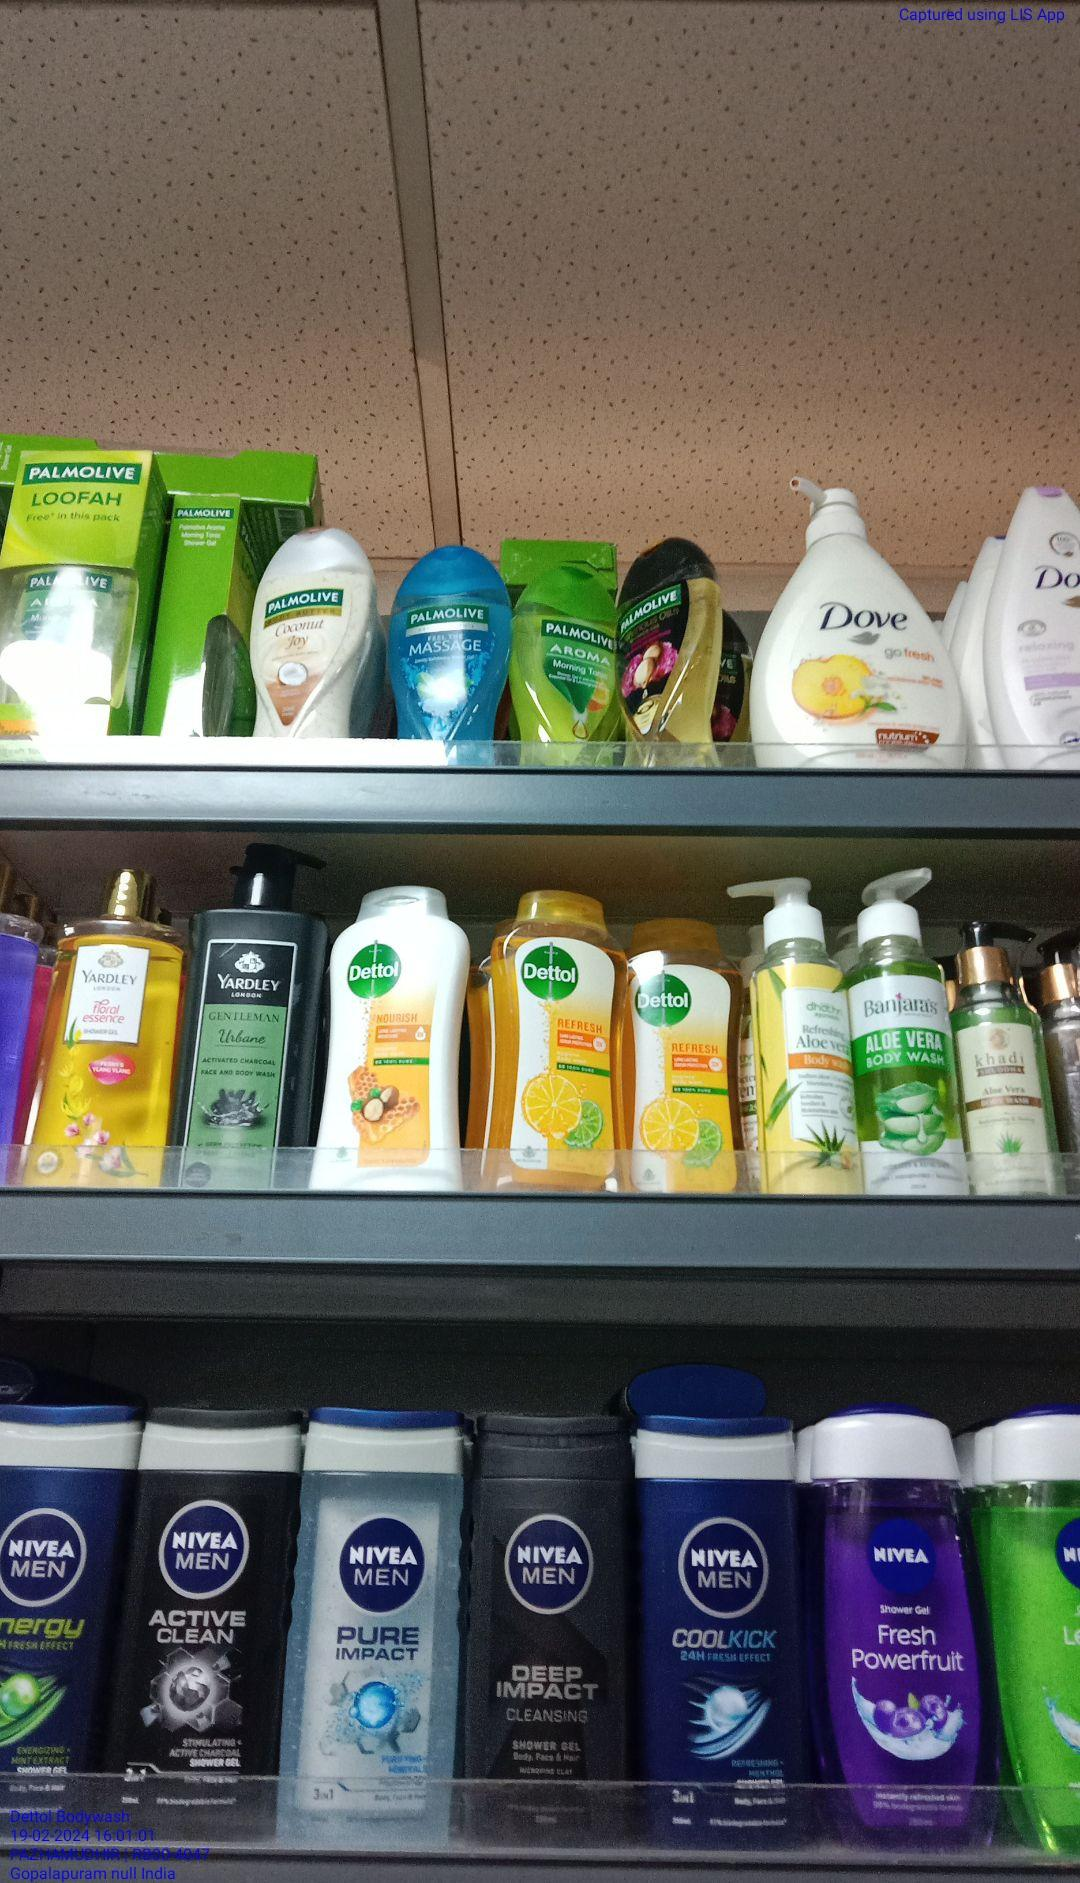Dettol_Bodywash_Refresh: (481, 883, 625, 1190), (623, 917, 739, 1195)
Dettol_Nourish_Body_Wash_250ML: (316, 881, 473, 1192)
Nivea_Shower_Gel_Fresh_Powerfruit_250ML: (806, 1398, 992, 1840)
Palmolive_Aroma_Moments_Feel_The_Massage_Shower_Gel_250ML: (387, 543, 513, 738)
Palmolive_Aroma_Morning_Tonic_Shower_Gel_250ML: (510, 564, 614, 744)
Palmolive_Coconut_Joy_Exfoliating_Body_Wash_250ML: (247, 522, 380, 732)
Palmolive_Luminous_Oils_Invigorating_Macadamia_Oil_With_Peony_250ML: (616, 532, 726, 742)
